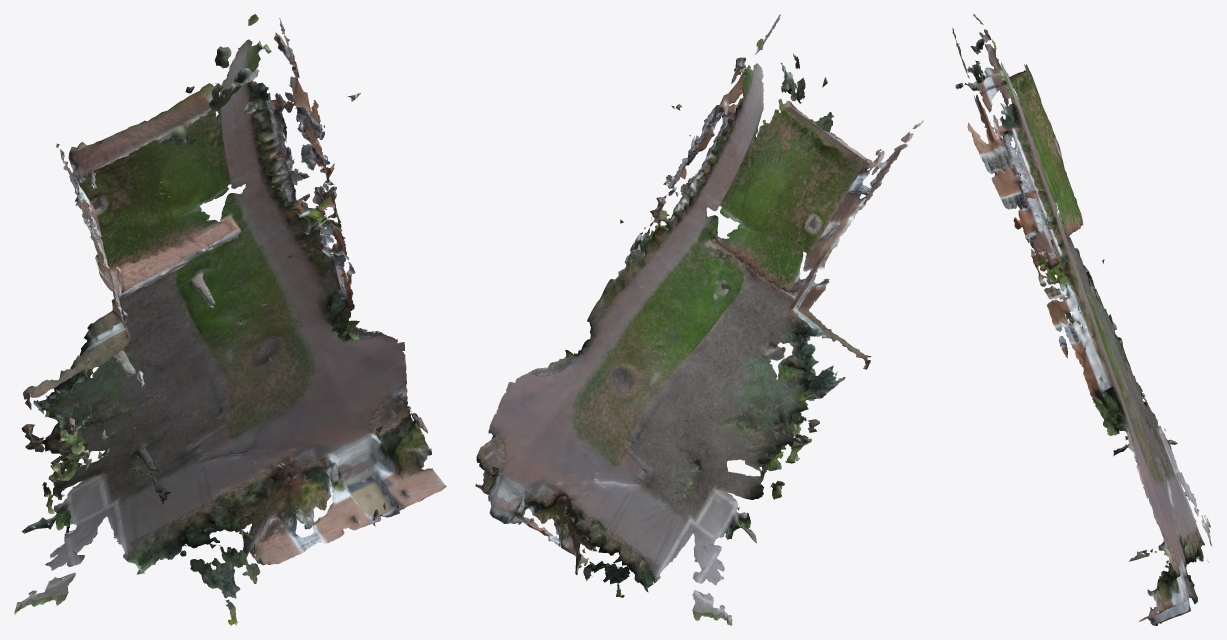
The model's file is carterrain_lowresmesh.dae.
3 renders of one model, left to right at view 1: azimuth 30°, elevation 25°; view 2: azimuth 150°, elevation 25°; view 3: azimuth 270°, elevation 25°, orthographic. The views are drawn at different scales.
Parts seen in each view (by area): view 1: mesh1; view 2: mesh1; view 3: mesh1.
Boxes of the visible parts, bbox=[...] form: mesh1: bbox=[14, 14, 446, 625]; mesh1: bbox=[475, 14, 923, 625]; mesh1: bbox=[952, 14, 1212, 625].
Bounding box in the file's own units: 64.12 × 37.51 × 89.27.
Materials: 1 (1 with a texture image).
